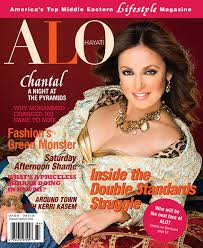middle_eastern_Female: (112, 38, 179, 107)
